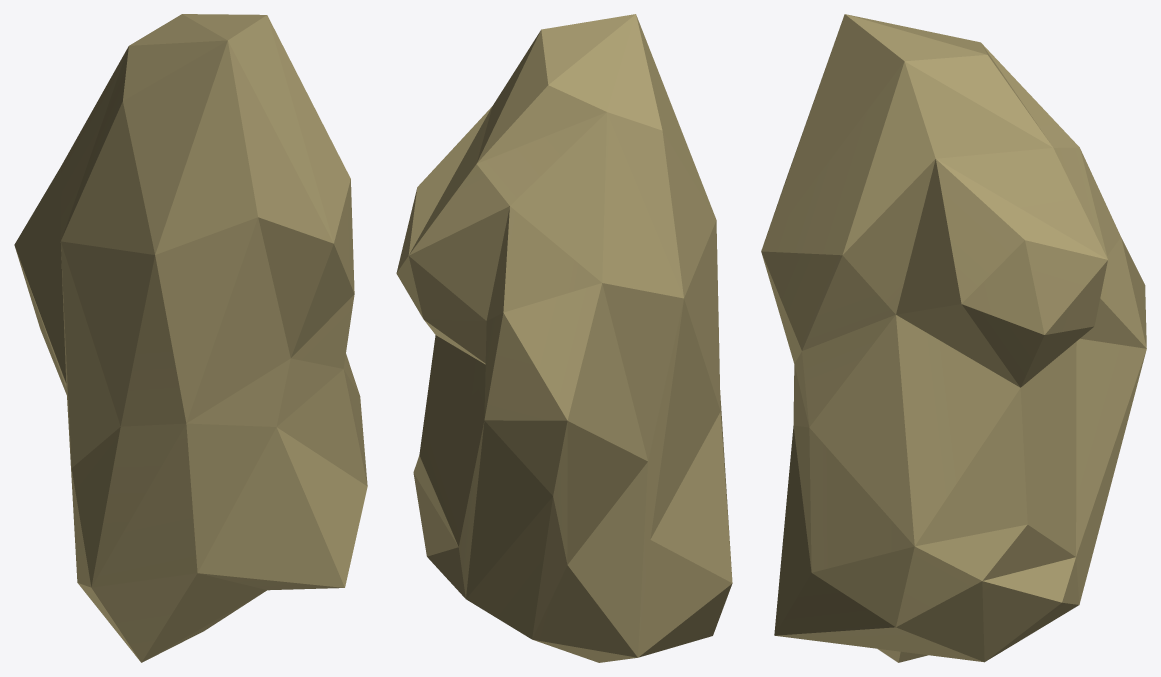
Rendered from SM_small_rock_53.fbx.
3 views of the same model, side by side, from view 1: azimuth 30°, elevation 25°; view 2: azimuth 150°, elevation 25°; view 3: azimuth 270°, elevation 25° (orthographic). The views are drawn at different scales.
Parts seen in each view (by area): view 1: small_rock_53; view 2: small_rock_53; view 3: small_rock_53.
Part boxes in pixels (<box>): small_rock_53: <box>14,14,367,662</box>; small_rock_53: <box>396,14,732,662</box>; small_rock_53: <box>761,14,1146,662</box>.
Bounding box in the file's own units: 97.24 × 201 × 108.
